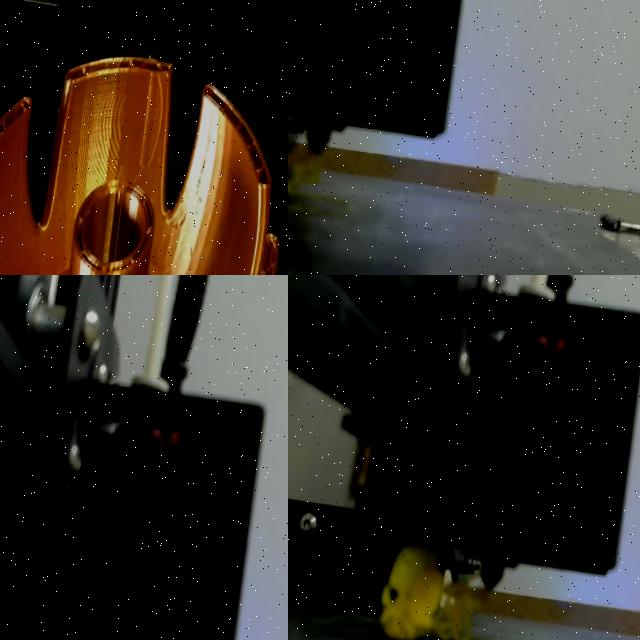spaghetti: (366, 538, 498, 640), (288, 149, 320, 192)
